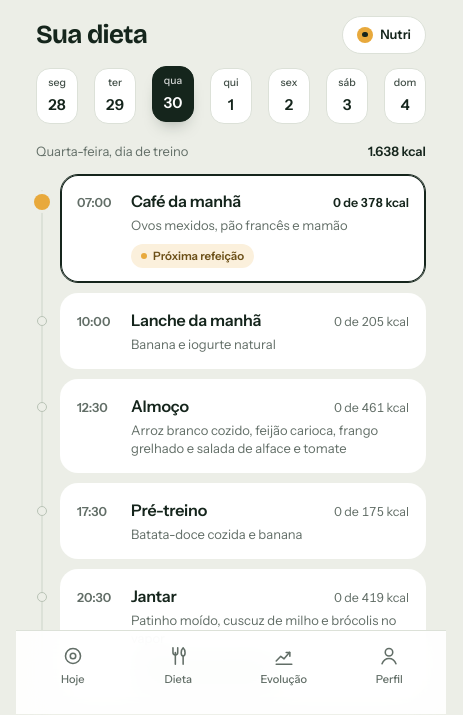
it: Dieta (S12) › dia passado sem registro mostra "Nada registrado neste dia"
Click the tab "seg 28": (57, 96) [36, 68, 78, 124]
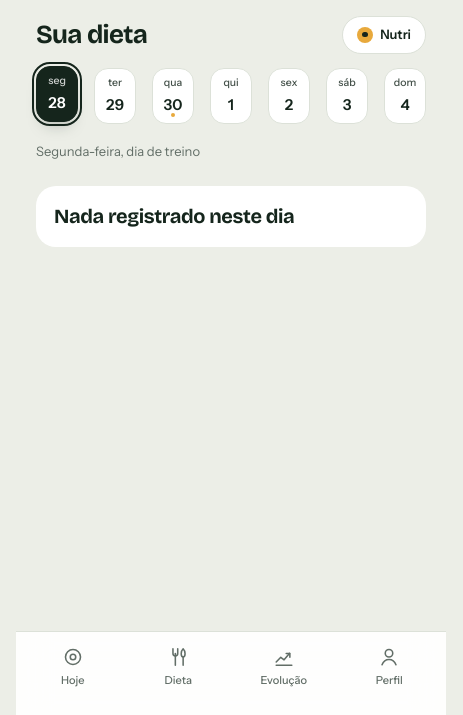
Check: the heading "Nada registrado neste dia" is shown, box [54, 204, 294, 228]
